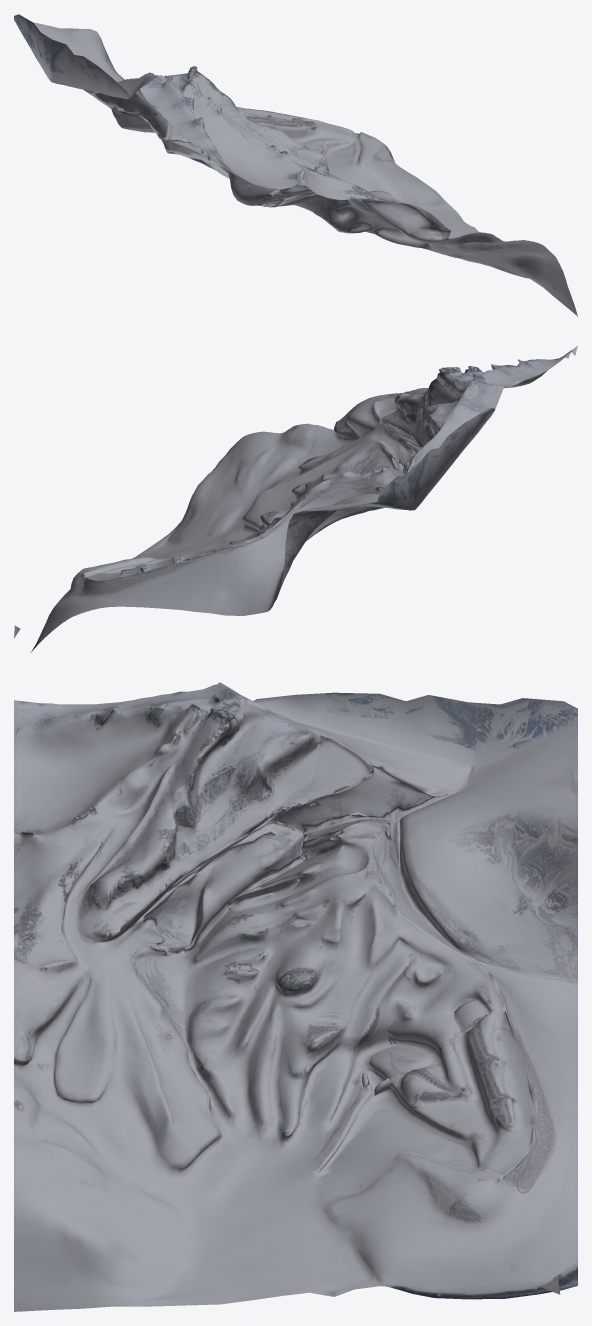
Rendered from WeTest.glb.
3 renders of one model, top to bottom at view 1: azimuth 30°, elevation 25°; view 2: azimuth 150°, elevation 25°; view 3: azimuth 270°, elevation 25°, orthographic. The views are drawn at different scales.
Visible parts, largest first — view 1: world; view 2: world; view 3: world.
Part boxes in pixels (x1=…): world: x1=14, y1=14, x2=577, y2=316; world: x1=14, y1=346, x2=577, y2=651; world: x1=14, y1=682, x2=577, y2=1311.
Bounding box in the file's own units: 1497 × 1052 × 1403.
Materials: 1 (1 with a texture image).
